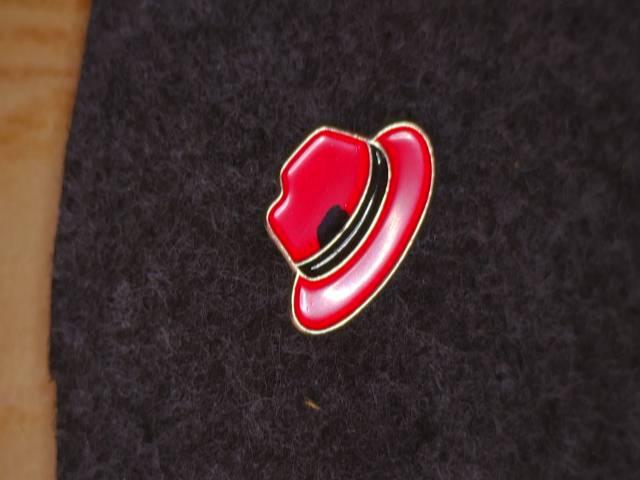Red-Hat: (252, 103, 441, 371)
Scratch: (302, 189, 365, 260)
